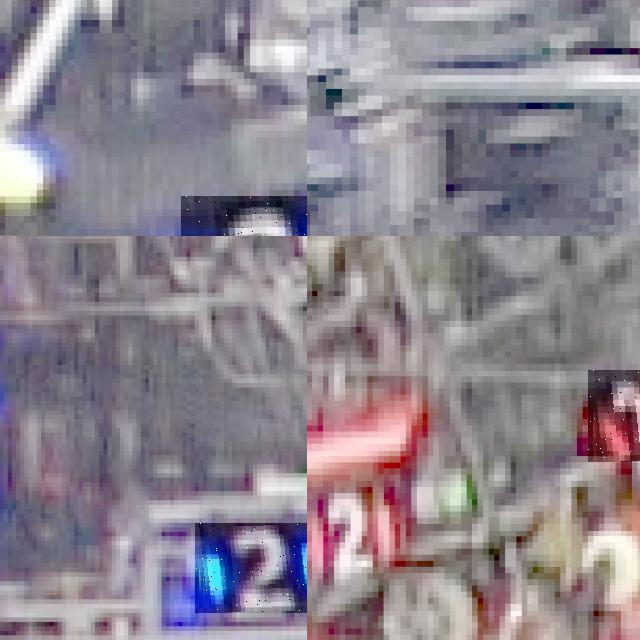B2: (194, 523, 307, 613)
B3: (181, 196, 307, 236)
R2: (307, 486, 395, 579), (587, 369, 640, 462)
